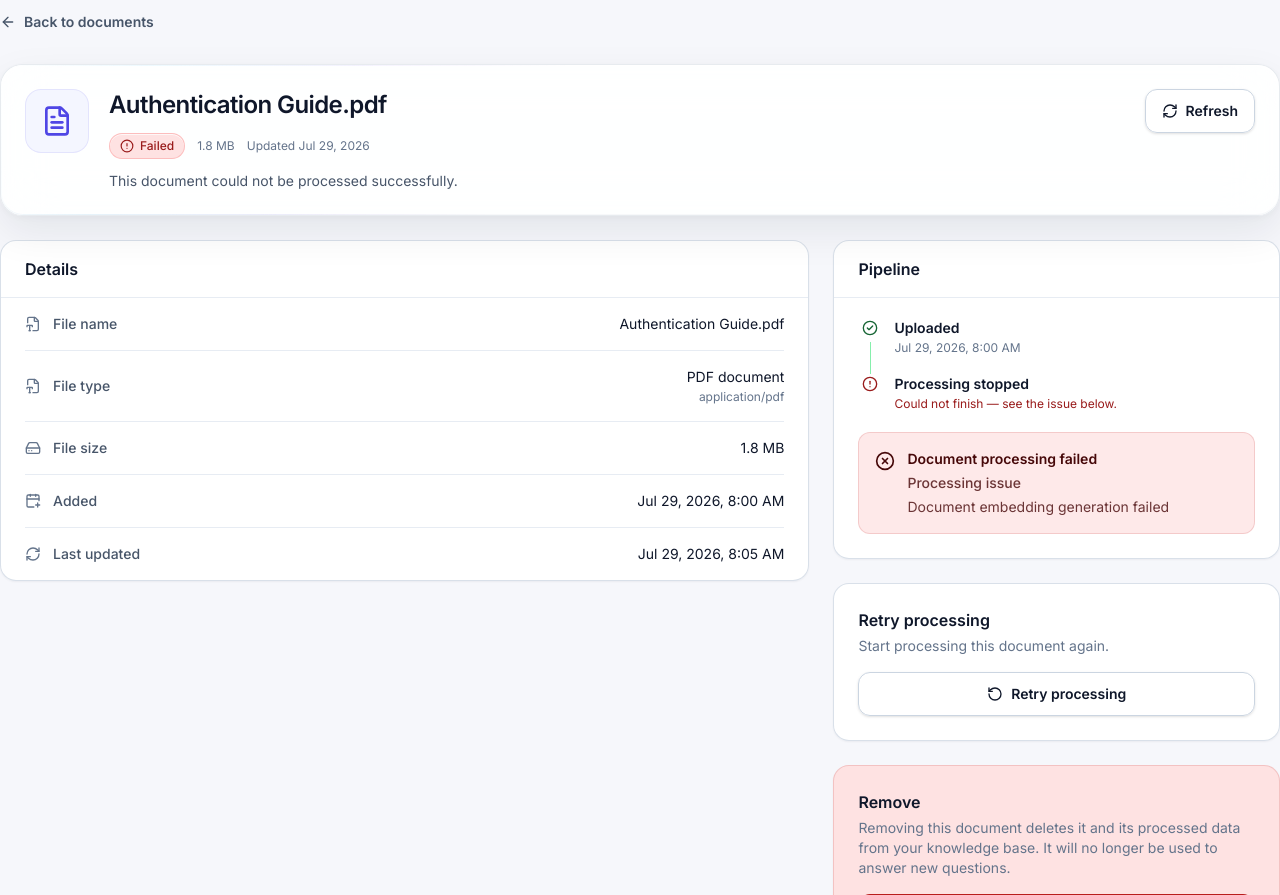
Test case: Document details page › loads the latest Details once after an invalid-state Retry race
Click the button "Retry processing". click: click(1057, 694)
box: 858,672 -> 1255,716
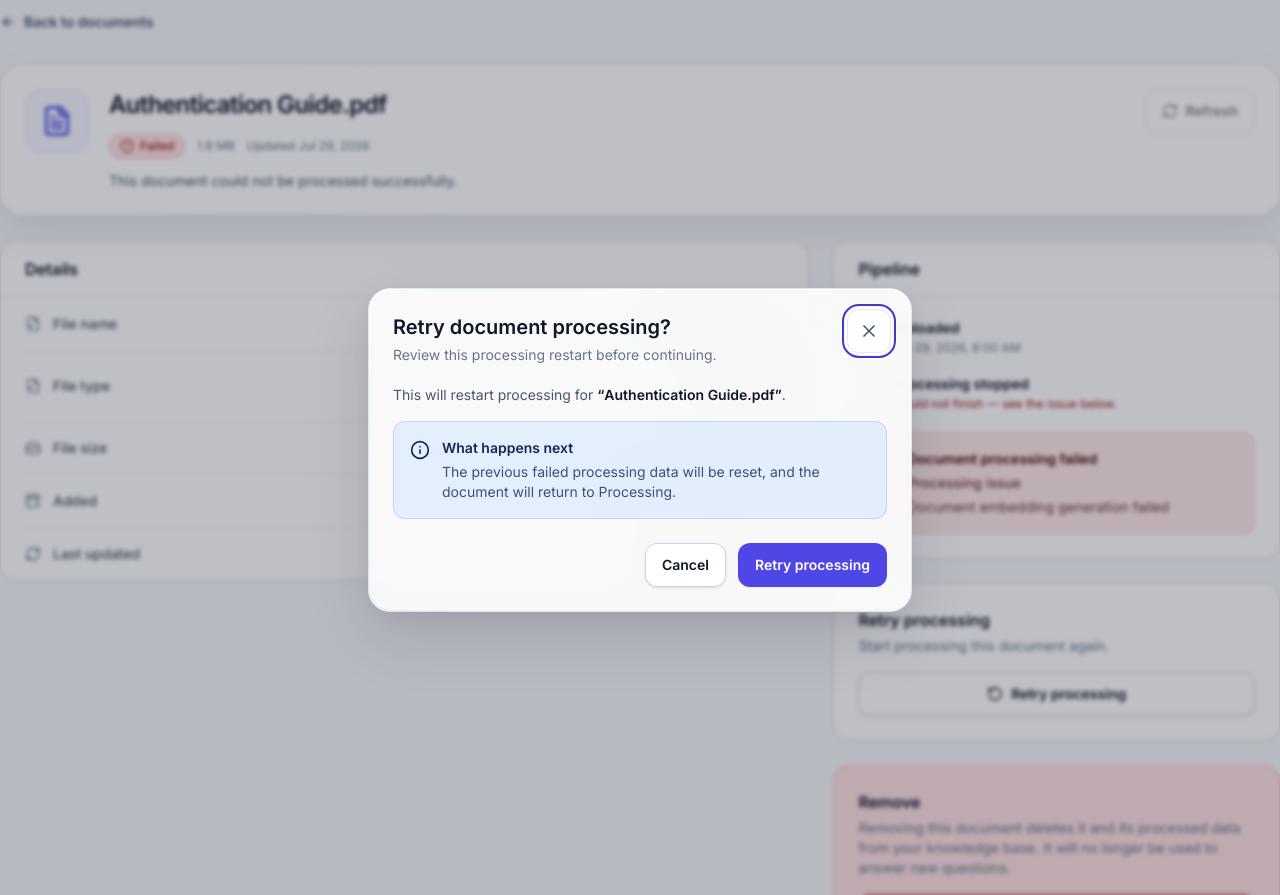
Click the button "Retry processing". click: click(812, 565)
box: 738,543 -> 887,587
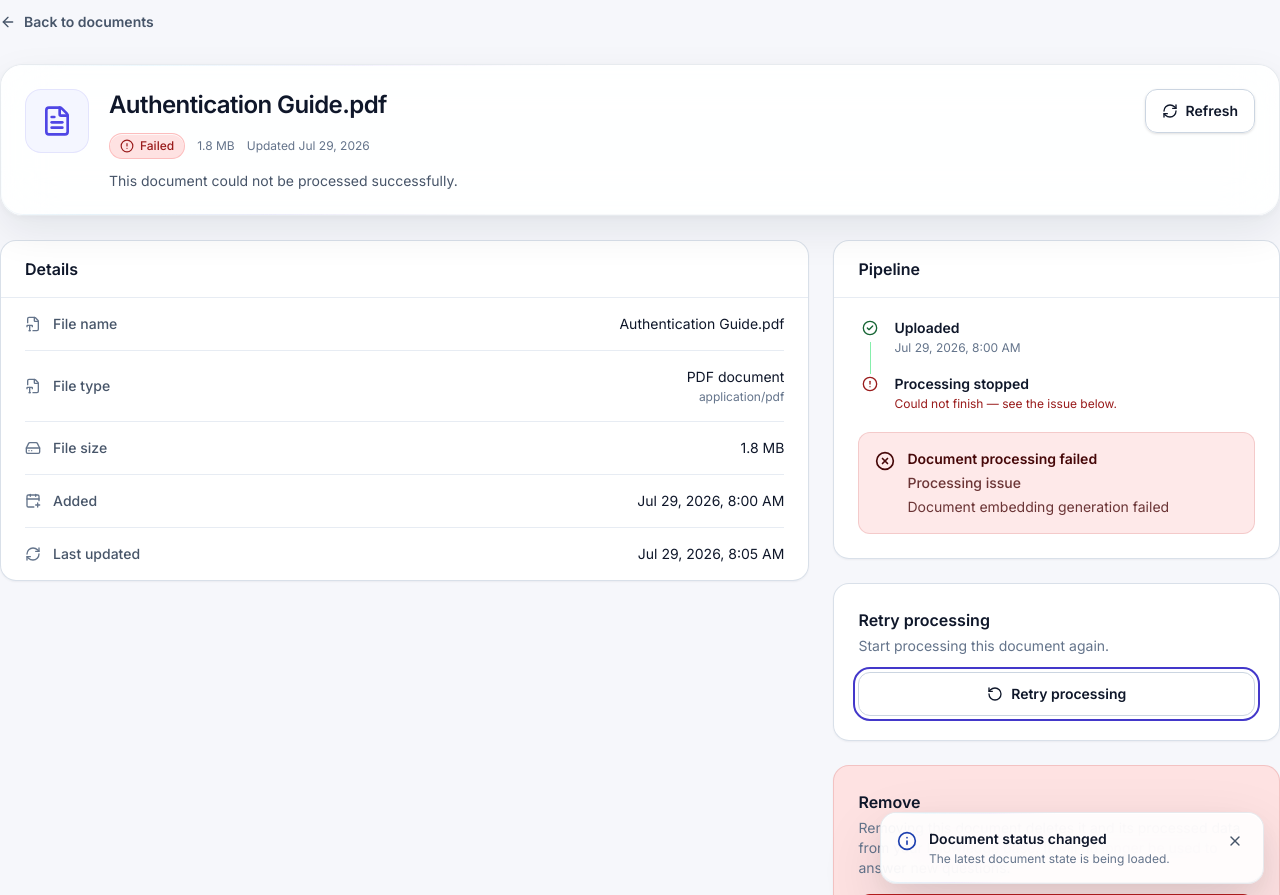
Expected: the message "Document status changed The latest document state is being loaded." is shown, 880,812 -> 1264,884
Expected: the heading "Retry document processing?" is gone
